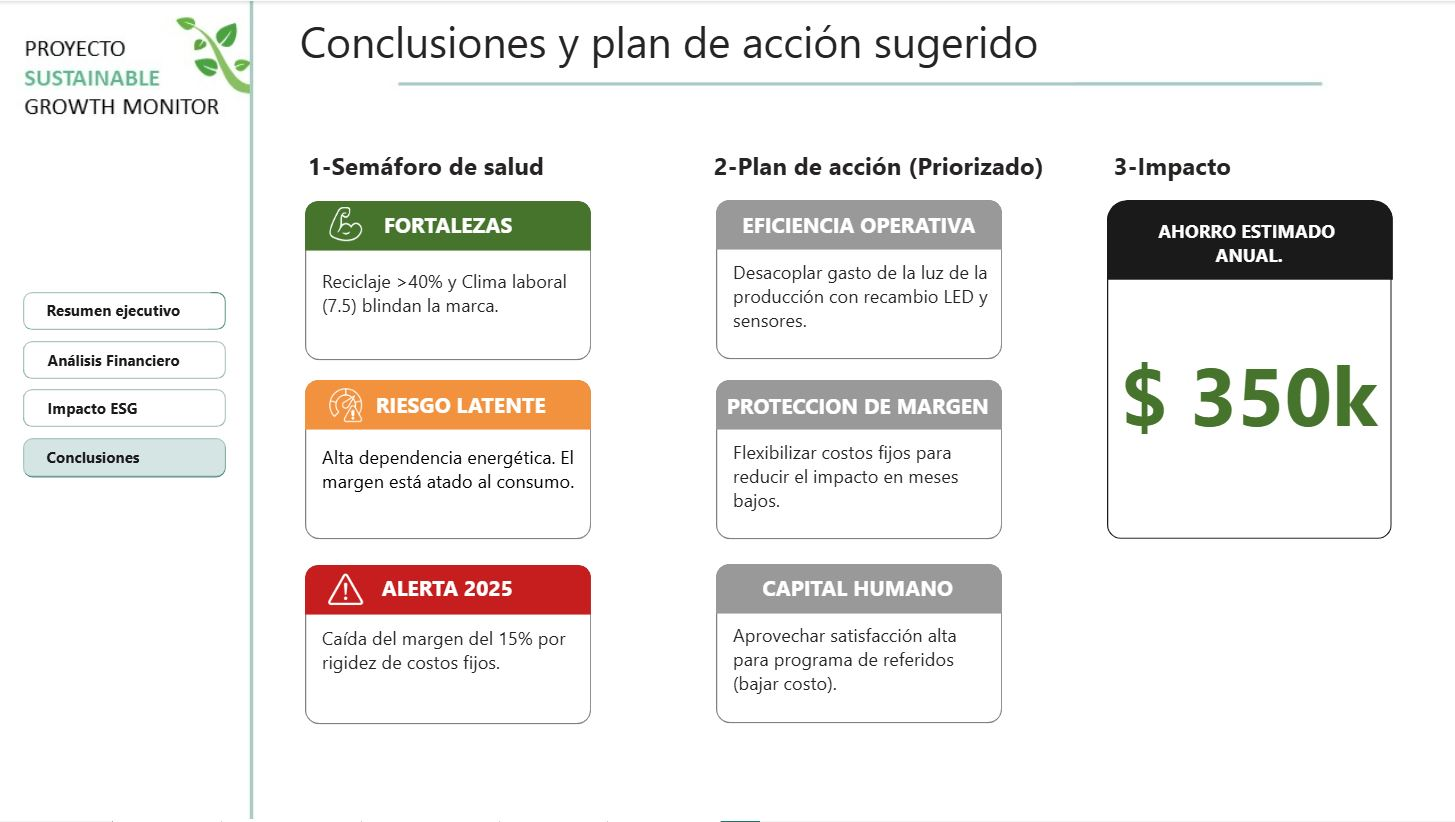

This screenshot's page, from the dashboard's own definition file:
{"tool":"powerbi","page":{"name":"Conclusiones","canvas":[1280,720],"ordinal":4},"visuals":[{"type":"group","id":"g1","title":"Grupo 1","box":[269.6,332.9,251.4,139.2],"z":0},{"type":"group","id":"g2","title":"Grupo 1","box":[269.6,495,251.4,139.2],"z":1000},{"type":"shape","box":[974.1,178.8,250,293.2],"z":2000},{"type":"group","id":"g3","title":"Grupo 1","box":[269.6,175.2,251.3,139.7],"z":3000},{"type":"group","id":"g4","title":"Grupo 1","box":[630.4,174.9,251.3,139.7],"z":4000},{"type":"group","id":"g5","title":"Grupo 1","box":[630.4,332.6,251.3,139.7],"z":5000},{"type":"group","id":"g6","title":"Grupo 1","box":[630.4,494.1,251.3,139.7],"z":6000},{"type":"textbox","box":[260,5.3,685,66],"z":7000},{"type":"textbox","box":[266.7,125.1,262.6,42.9],"z":8000},{"type":"textbox","box":[623.8,125.1,312.1,42.9],"z":9000},{"type":"textbox","box":[974.4,125.1,129.7,42.9],"z":10000},{"type":"textbox","box":[327,336.8,171.6,39],"z":11000},{"type":"textbox","box":[269.6,384.2,250,79.7],"z":12000},{"type":"textbox","box":[269.6,497.7,250,39.2],"z":13000},{"type":"textbox","box":[269.6,543.7,250,79.7],"z":14000},{"type":"textbox","box":[630.4,179,250.9,37.3],"z":15000},{"type":"textbox","box":[630.4,222.1,251.4,81.1],"z":16000},{"type":"textbox","box":[630.4,338,249.1,39.1],"z":17000},{"type":"textbox","box":[630.4,380.2,248.6,81.1],"z":18000},{"type":"textbox","box":[630.4,498,249.1,39.1],"z":19000},{"type":"textbox","box":[630.4,541,251.4,81.1],"z":20000},{"type":"textbox","box":[974.1,289.8,249.6,110.4],"z":21000},{"type":"textbox","box":[269.6,230.2,250,81.1],"z":22000},{"type":"textbox","box":[269.6,178.8,251.4,36.5],"z":23000},{"type":"shape","box":[974.1,175,251.3,70.4],"z":24000},{"type":"shape","box":[630.4,175.1,251.3,139.7],"z":24000,"group":"g4"},{"type":"shape","box":[269.6,175.4,251.3,139.7],"z":24000,"group":"g3"},{"type":"shape","box":[630.4,332.8,251.3,139.7],"z":24000,"group":"g5"},{"type":"shape","box":[269.6,333.1,251.3,139.7],"z":24000,"group":"g1"},{"type":"shape","box":[630.4,494.3,251.3,139.7],"z":24000,"group":"g6"},{"type":"shape","box":[269.6,495.2,251.3,139.7],"z":24000,"group":"g2"},{"type":"shape","box":[630.4,174.9,251.3,43.6],"z":25000,"group":"g4"},{"type":"shape","box":[269.6,175.2,251.3,43.6],"z":25000,"group":"g3"},{"type":"textbox","box":[974.1,186.3,249.6,53.9],"z":25000},{"type":"shape","box":[630.4,332.6,251.3,43.6],"z":25000,"group":"g5"},{"type":"shape","box":[269.6,332.9,251.3,43.6],"z":25000,"group":"g1"},{"type":"shape","box":[630.4,494.1,251.3,43.6],"z":25000,"group":"g6"},{"type":"shape","box":[269.6,495,251.3,43.6],"z":25000,"group":"g2"},{"type":"image","box":[290,180.8,30.9,29.9],"z":26000},{"type":"shape","box":[21.8,255.1,178.2,33.3],"z":27000},{"type":"shape","box":[21.8,298.7,178.2,33.3],"z":28000},{"type":"shape","box":[21.8,341,178.2,33.3],"z":29000},{"type":"shape","box":[21.8,383.3,178.2,34.6],"z":30000},{"type":"actionButton","box":[21.5,255,170,33.5],"z":31000},{"type":"actionButton","box":[21.6,297.9,178.4,34],"z":32000},{"type":"actionButton","box":[21.6,340.2,178.4,34],"z":33000},{"type":"actionButton","box":[21.2,383.2,178.8,34.1],"z":34000},{"type":"image","box":[290.1,340,31.2,29.8],"z":35000},{"type":"image","box":[290.1,501.3,31.2,29.8],"z":36000}]}

Visuals, with their boxes on the page's 1280x720 design canvas (x1, y1, x2, y2). These are canvas units, not pixel positions in the 1455x822 screenshot, which may show the page scaled, cropped or inside an application window:
"Grupo 1" group: 270:333:521:472
"Grupo 1" group: 270:495:521:634
shape: 974:179:1224:472
"Grupo 1" group: 270:175:521:315
"Grupo 1" group: 630:175:882:315
"Grupo 1" group: 630:333:882:472
"Grupo 1" group: 630:494:882:634
textbox: 260:5:945:71
textbox: 267:125:529:168
textbox: 624:125:936:168
textbox: 974:125:1104:168
textbox: 327:337:499:376
textbox: 270:384:520:464
textbox: 270:498:520:537
textbox: 270:544:520:623
textbox: 630:179:881:216
textbox: 630:222:882:303
textbox: 630:338:880:377
textbox: 630:380:879:461
textbox: 630:498:880:537
textbox: 630:541:882:622
textbox: 974:290:1224:400
textbox: 270:230:520:311
textbox: 270:179:521:215
shape: 974:175:1225:245
shape: 630:175:882:315
shape: 270:175:521:315
shape: 630:333:882:472
shape: 270:333:521:473
shape: 630:494:882:634
shape: 270:495:521:635
shape: 630:175:882:218
shape: 270:175:521:219
textbox: 974:186:1224:240
shape: 630:333:882:376
shape: 270:333:521:376
shape: 630:494:882:538
shape: 270:495:521:539
image: 290:181:321:211
shape: 22:255:200:288
shape: 22:299:200:332
shape: 22:341:200:374
shape: 22:383:200:418
actionButton: 22:255:192:288
actionButton: 22:298:200:332
actionButton: 22:340:200:374
actionButton: 21:383:200:417
image: 290:340:321:370
image: 290:501:321:531
